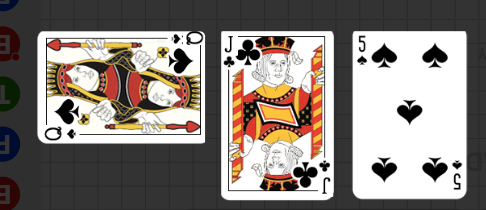5S: (451, 157, 464, 191)
9S: (43, 126, 78, 142)
JC: (223, 35, 237, 69)
